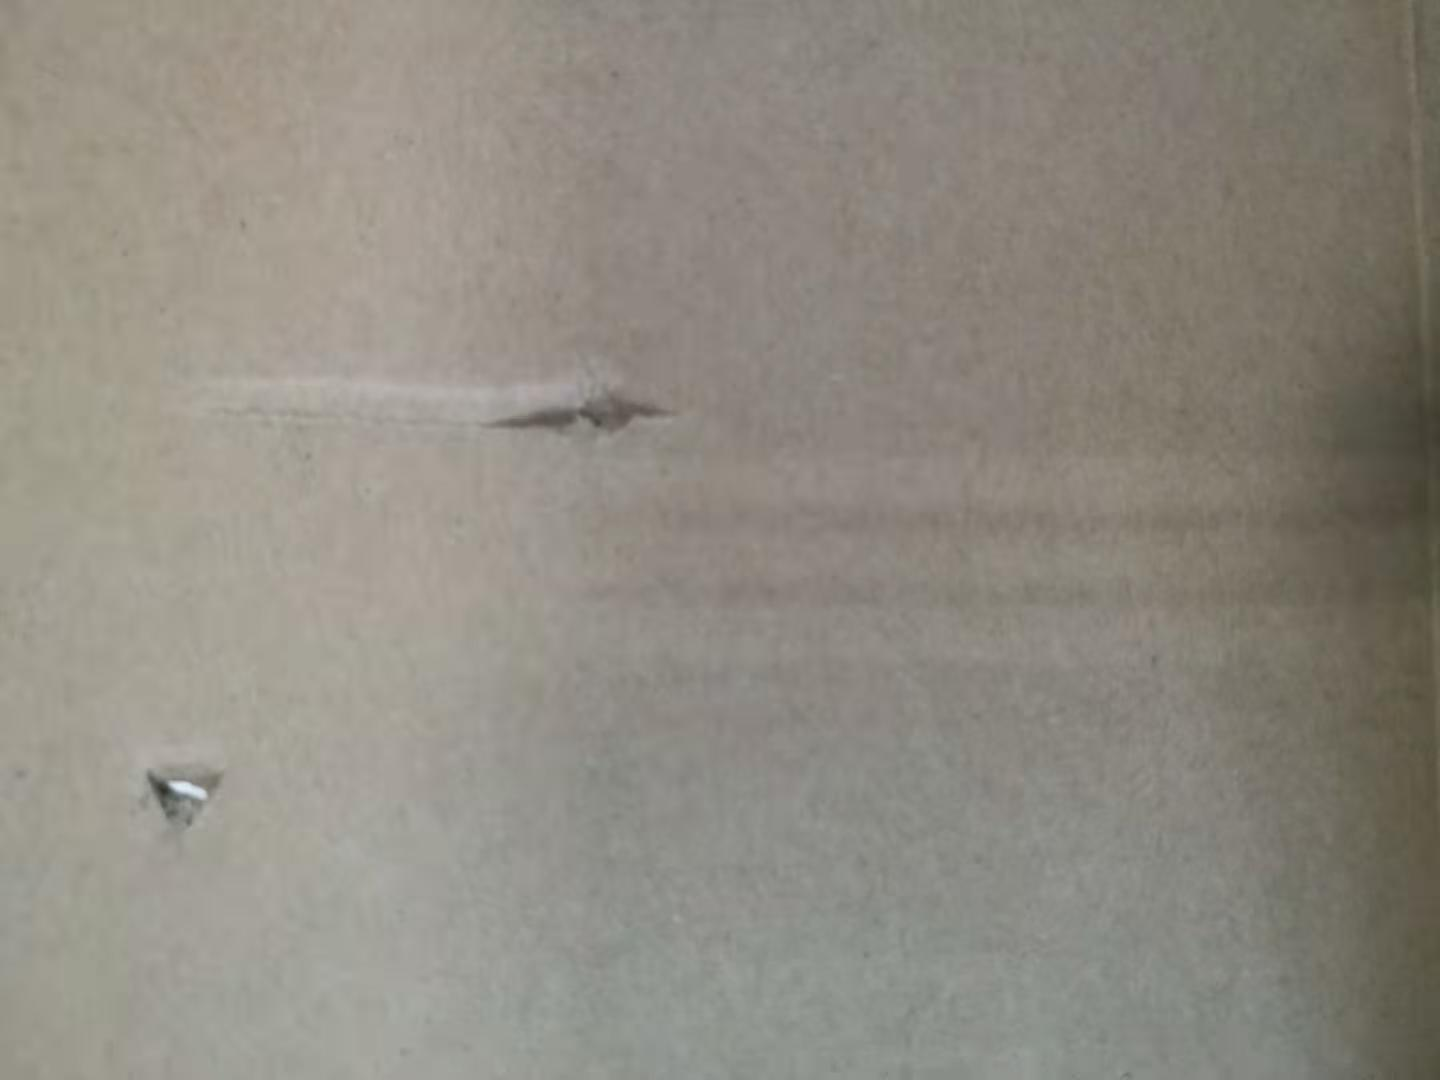defect: (657, 458, 1440, 634), (150, 318, 720, 498), (103, 720, 249, 869)
